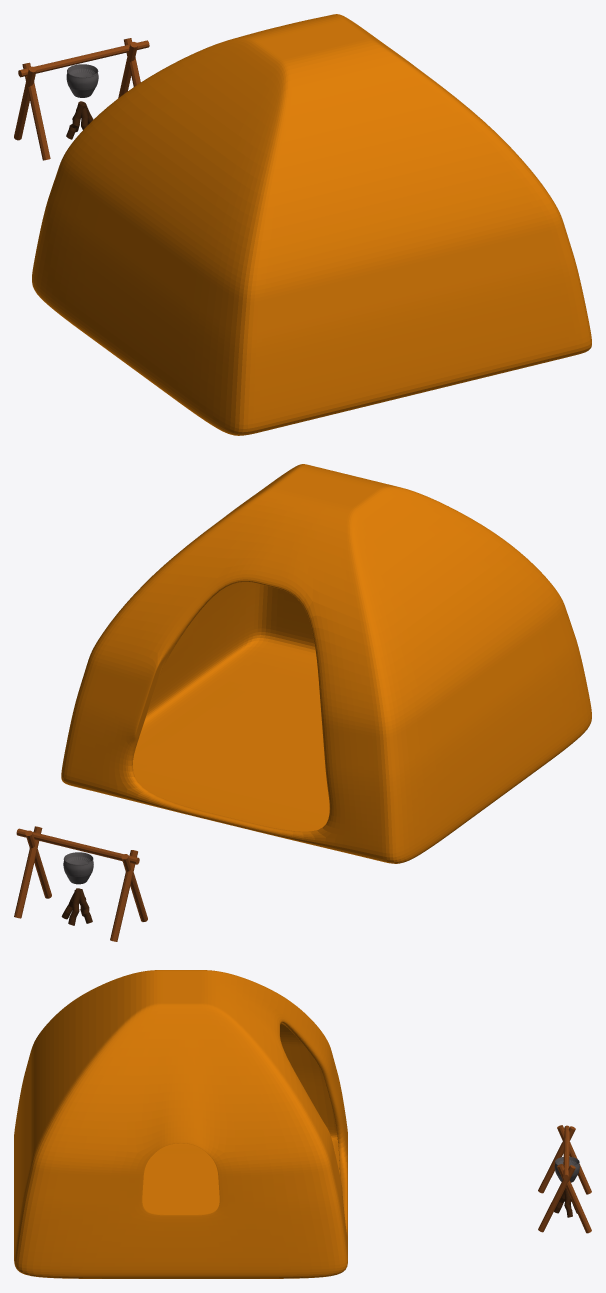
The model's file is tent.fbx.
The picture shows the model from 3 angles, top to bottom: view 1: azimuth 30°, elevation 25°; view 2: azimuth 150°, elevation 25°; view 3: azimuth 270°, elevation 25°; orthographic projection. The views are drawn at different scales.
Parts seen in each view (by area): view 1: Cube, Cylinder.009, Cylinder, Cylinder.007, Cylinder.008; view 2: Cube, Cylinder.009, Cylinder, Cylinder.008, Cylinder.005; view 3: Cube, Cylinder.006, Cylinder.005.
Part boxes in pixels (x1,y1,x2,y2): Cube: (32, 14, 591, 435); Cylinder.009: (18, 40, 149, 77); Cylinder: (66, 64, 98, 97); Cylinder.007: (22, 62, 50, 160); Cylinder.008: (14, 66, 36, 140); Cube: (61, 464, 591, 863); Cylinder.009: (16, 828, 139, 864); Cylinder: (63, 852, 93, 884); Cylinder.008: (110, 850, 137, 941); Cylinder.005: (14, 826, 42, 918); Cube: (14, 970, 347, 1278); Cylinder.006: (538, 1165, 575, 1232); Cylinder.005: (557, 1164, 591, 1233).
Bounding box in the file's own units: 379 × 279 × 654.
